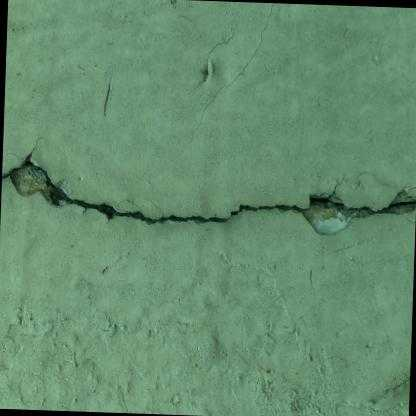crack: (1, 148, 416, 235)
